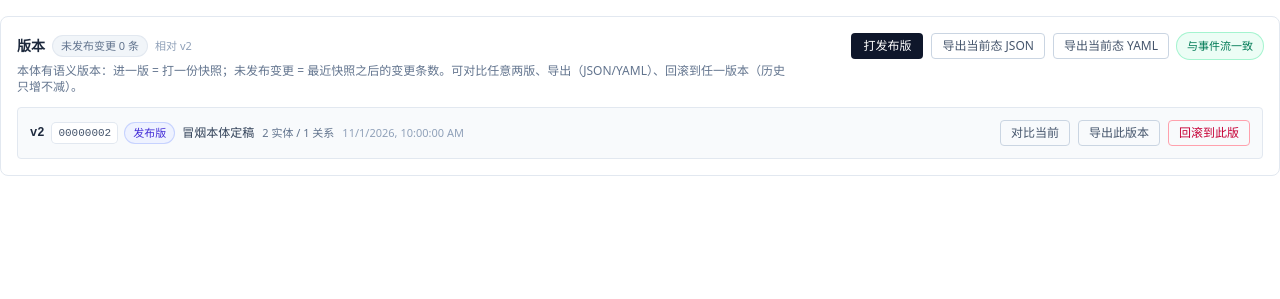
Scenario: OntologyVersionSection › 打发布版：新版本 201 如实；unchanged=true 显示后端 message 不谎称新版本
Expected: the number of list items with test id "ontology-version-row" is 1, [17,107,1263,159]
// 新版本：label 非空 → v3
Click the button with test id "ontology-publish" at {"x": 888, "y": 46}, box [852,33,924,59]
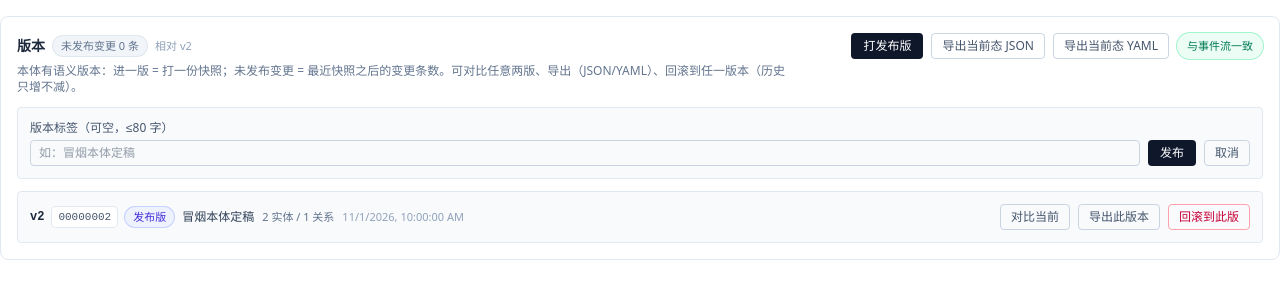
Type "回归定稿" into the field with test id "ontology-publish-label" at {"x": 585, "y": 153}, box [30,140,1140,166]
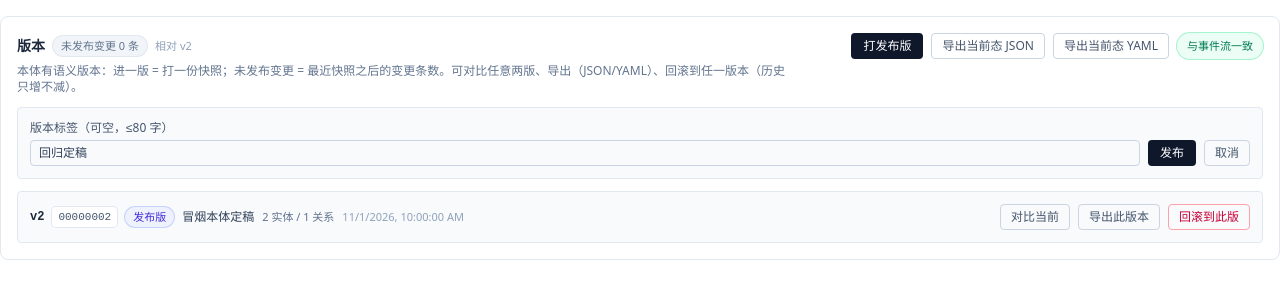
Click the button with test id "ontology-publish-submit" at {"x": 1172, "y": 153}, box [1148,140,1196,166]
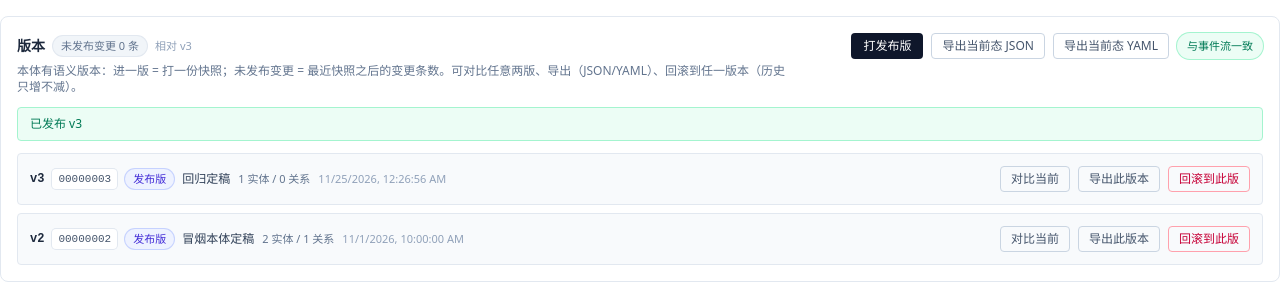
Result: the text with test id "ontology-publish-result" reads "已发布 v3" at [30,115,82,132]
Result: the text "回归定稿" is shown at [182,171,230,187]
